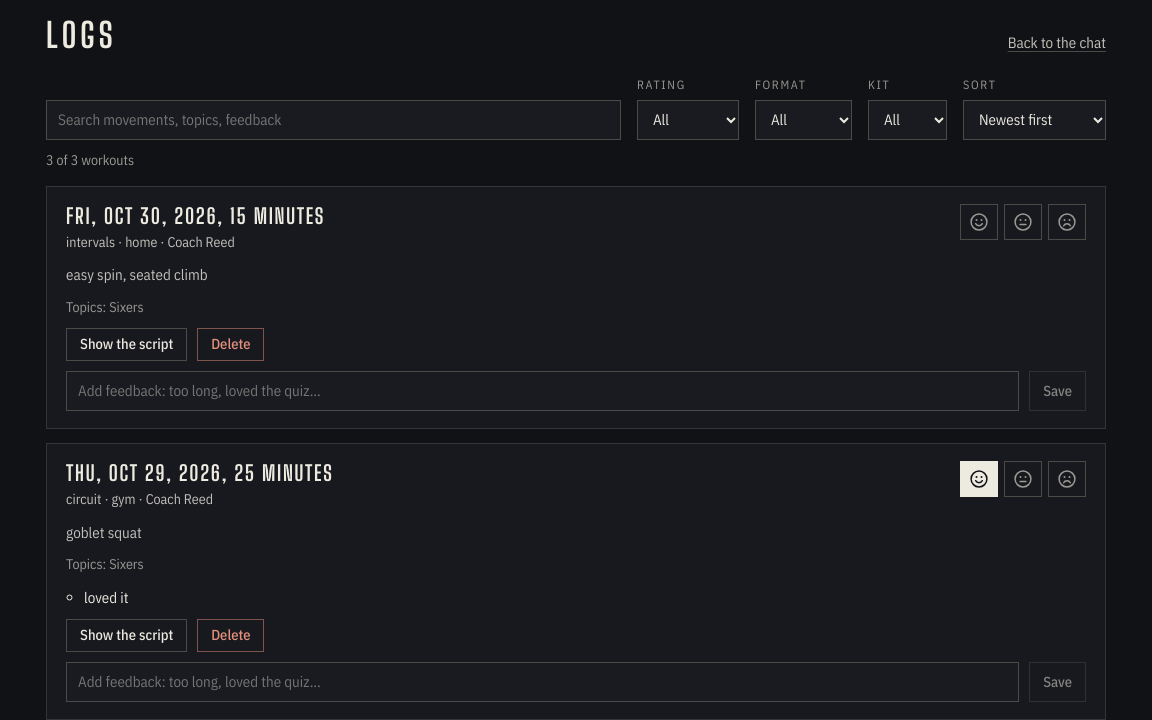
it: the Logs page › lists the workouts newest first and filters them
Expected: the text "3 of 3 workouts" is shown, [46,151,134,169]
Select "Positive" in the dropdown labelled "Rating": (688, 120) [637,100,739,140]
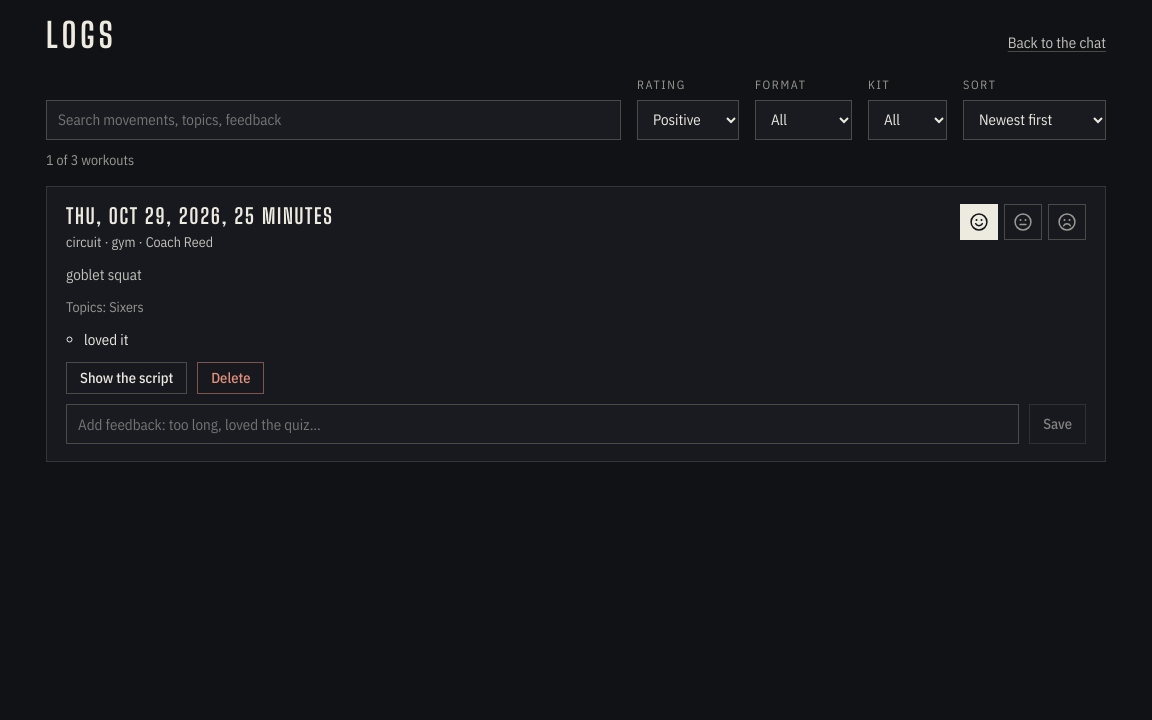
Expected: the list item shows "loved it", [84,330,128,349]
Select "All" in the dropdown labelled "Rating": (688, 120) [637,100,739,140]
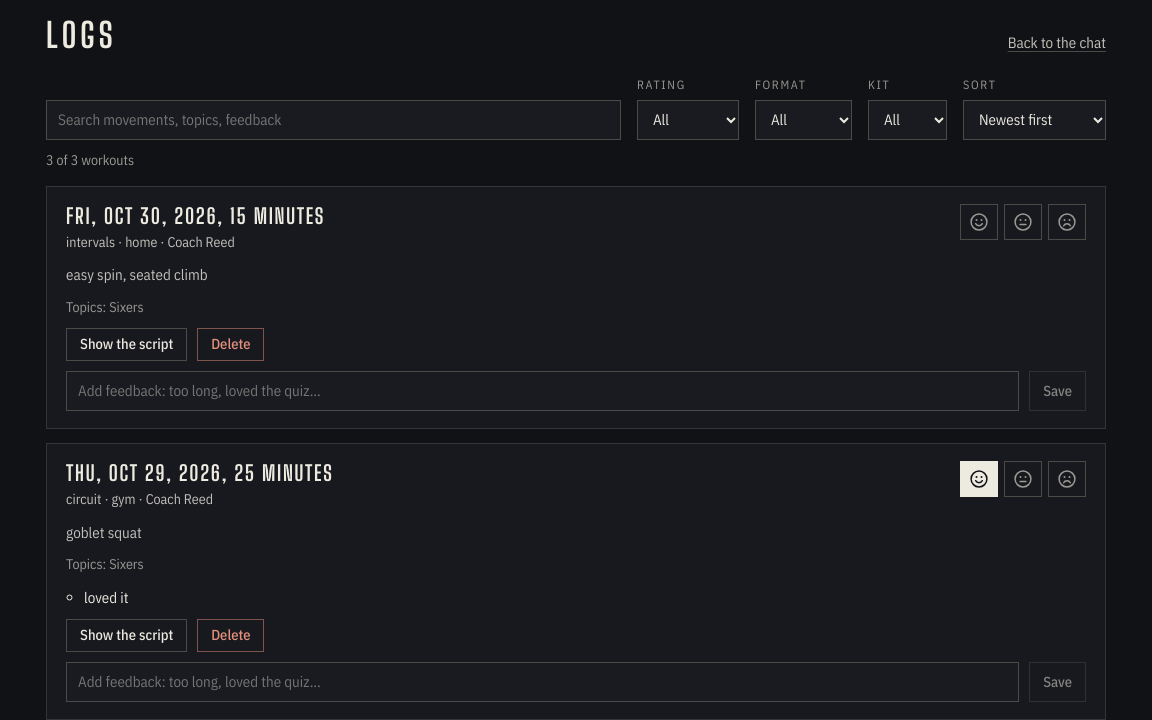
In the search field labelled "Search": (334, 120) [46,100,621,140], type "nothing like this"
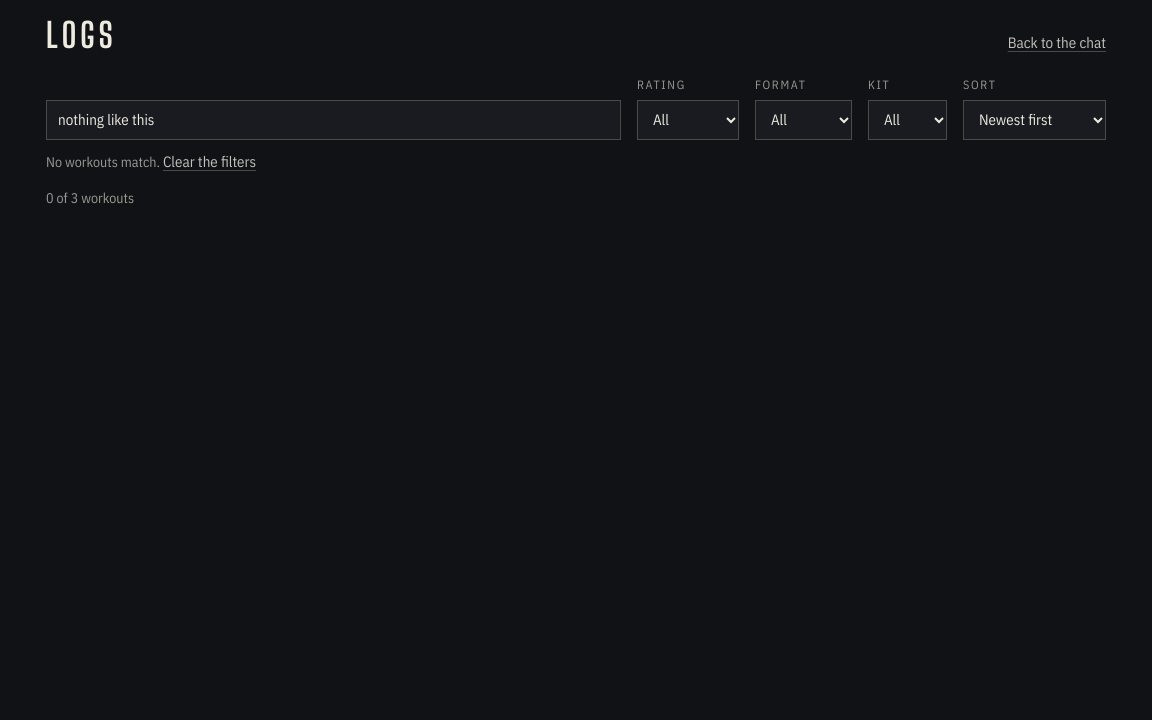
Expected: the text "No workouts match. Clear the filters" is shown, [46,150,256,173]
